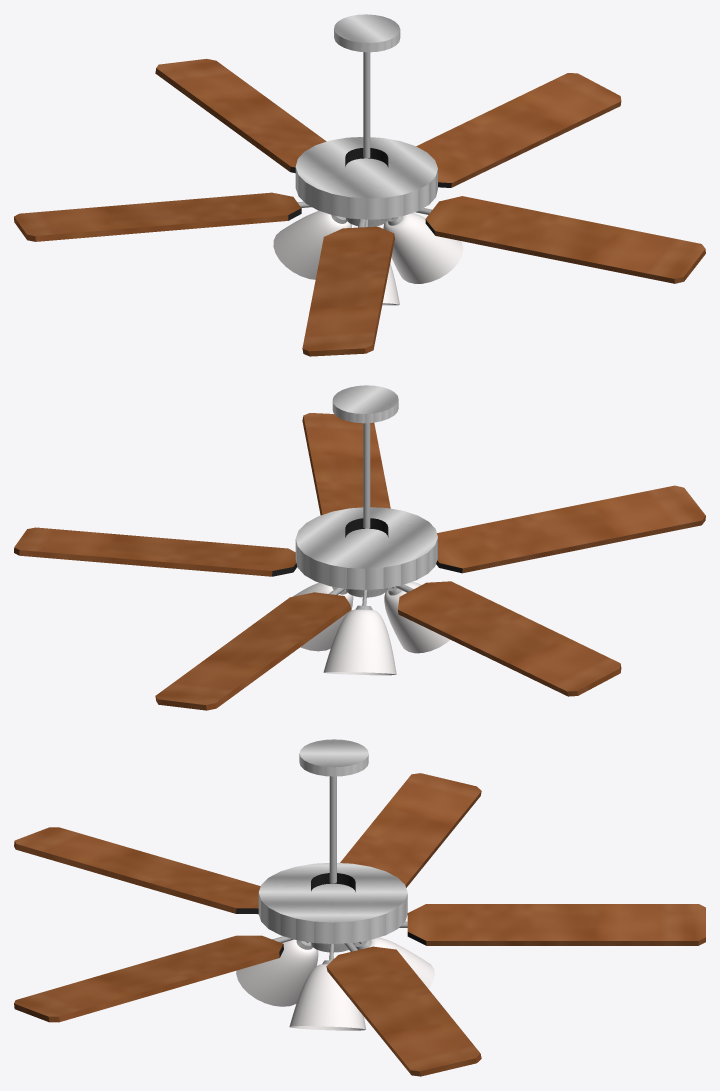
Rendered from lamp_4.glb.
3 views of the same model, one above another, from view 1: azimuth 30°, elevation 25°; view 2: azimuth 150°, elevation 25°; view 3: azimuth 270°, elevation 25° (orthographic).
Visible parts, largest first — view 1: root; view 2: root; view 3: root.
Boxes of the visible parts, box(x1,y1,x2,y2) form: root: box(14, 14, 705, 356); root: box(14, 385, 705, 710); root: box(14, 739, 705, 1076).
Size of the model in its own units: 0.5963 by 0.2473 by 0.5963.
7 materials, 3 textured.
